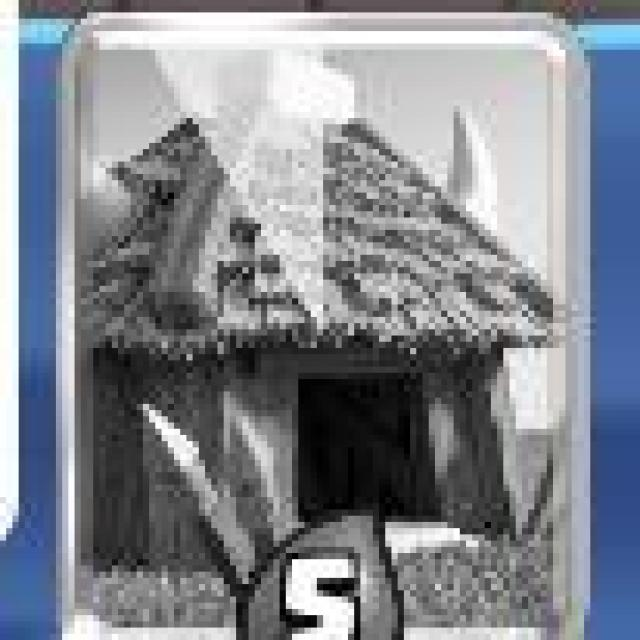Goblin_Hut: (53, 9, 596, 640)
